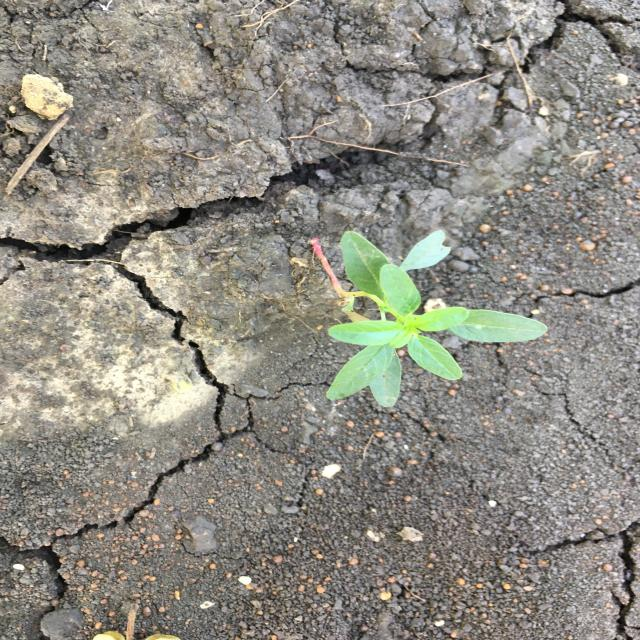Waterhemp: (310, 228, 552, 410)
